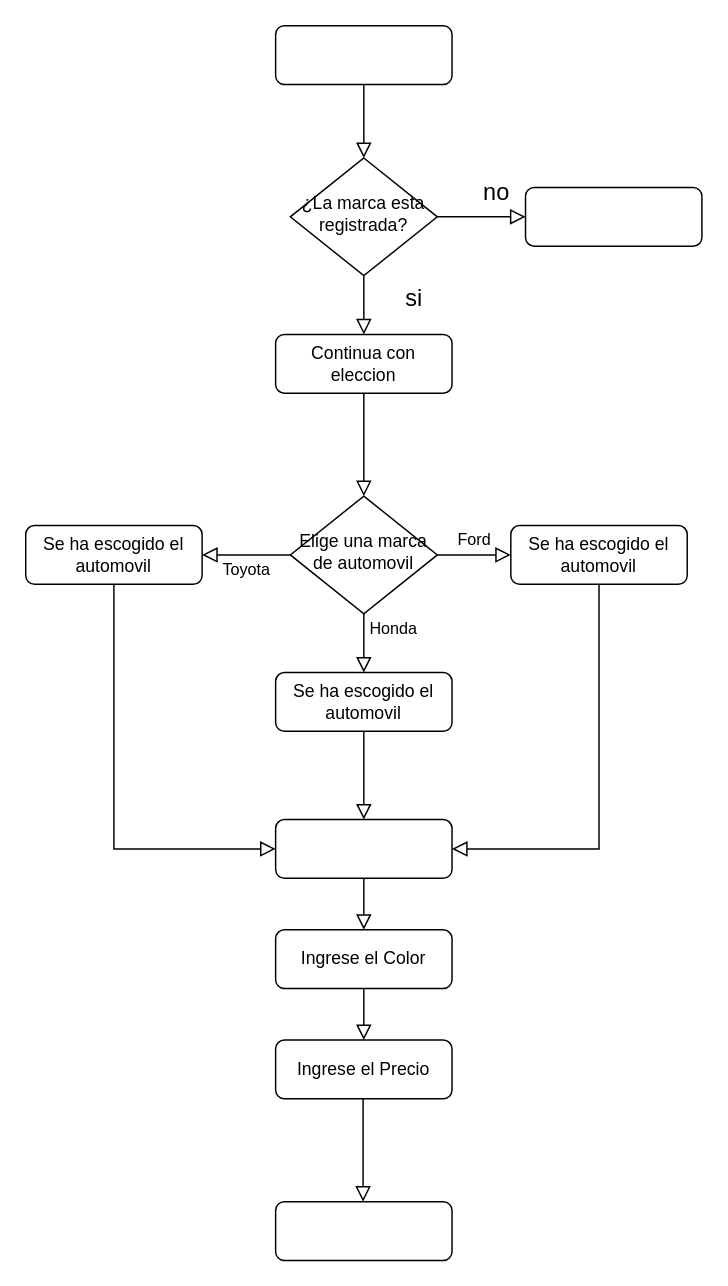
Some shapes in this 728 by 1286 pixel diagram are drawn without their labels. The centre of each missing label's shape, as x and y in pixels:
Informar que no esta: (613,216)
Ingrese el modelo: (363,848)
Marcas: (363,54)
Ver factura: (363,1230)
